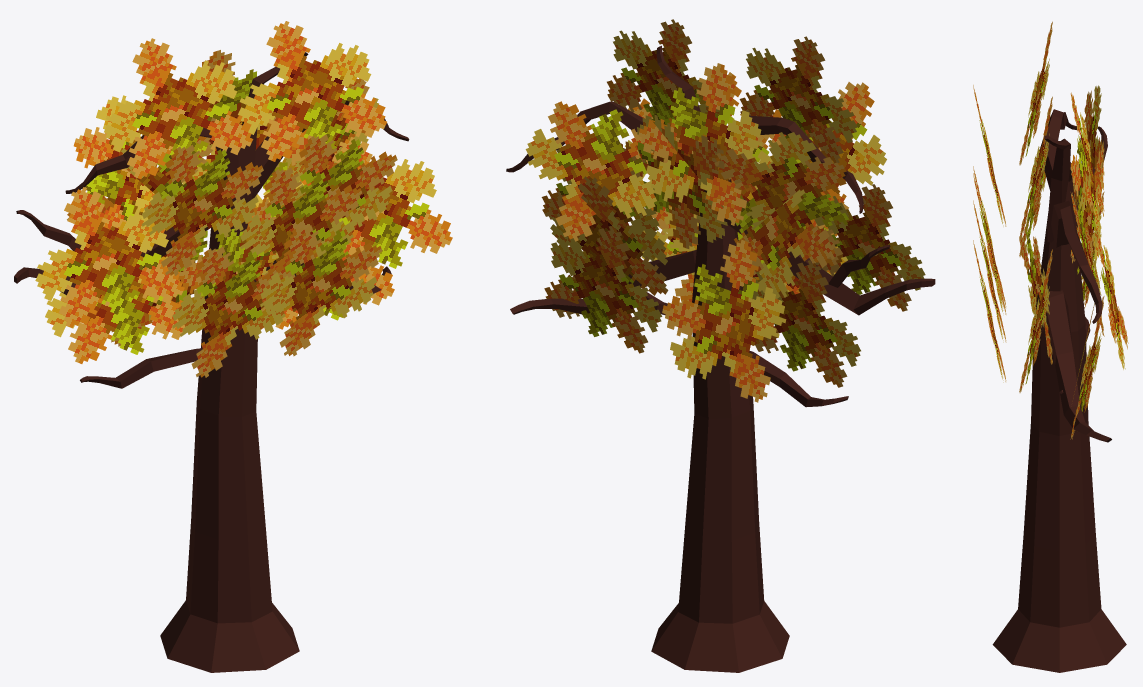
File: m_tree.fbx
3 renders of one model, left to right at view 1: azimuth 30°, elevation 25°; view 2: azimuth 150°, elevation 25°; view 3: azimuth 270°, elevation 25°, orthographic. The views are drawn at different scales.
Parts seen in each view (by area): view 1: Cube.022, Plane.073, Plane.075, Plane.074, Plane.079, Plane.077, Plane.078, Plane.076, Plane.072, Plane.065, Plane.080, Plane.070 (+6 smaller); view 2: Cube.022, Plane.081, Plane.068, Plane.069, Plane.071, Plane.070, Plane.074, Plane.065, Plane.075, Plane.073, Plane.064, Plane.066 (+4 smaller); view 3: Cube.022, Plane.063, Plane.081, Plane.066, Plane.069, Plane.070, Plane.074, Plane.072, Plane.073, Plane.071, Plane.064, Plane.068 (+6 smaller).
Part boxes in pixels (box(x1,y1,x2,y2)): Cube.022: box(14, 52, 409, 672); Plane.073: box(238, 21, 386, 161); Plane.075: box(35, 187, 184, 327); Plane.074: box(104, 38, 253, 179); Plane.079: box(260, 225, 382, 356); Plane.077: box(141, 145, 263, 275); Plane.078: box(172, 246, 291, 377); Plane.076: box(240, 167, 362, 277); Plane.072: box(332, 137, 452, 268); Plane.065: box(45, 256, 185, 363); Plane.080: box(280, 134, 397, 264); Plane.070: box(73, 95, 172, 229); Cube.022: box(506, 45, 935, 672); Plane.081: box(662, 239, 786, 402); Plane.068: box(525, 101, 656, 241); Plane.069: box(638, 63, 762, 225); Plane.071: box(544, 226, 662, 353); Plane.070: box(714, 132, 849, 266); Plane.074: box(739, 36, 857, 163); Plane.065: box(752, 260, 860, 387); Plane.075: box(814, 184, 925, 311); Plane.073: box(607, 19, 719, 125); Plane.064: box(728, 161, 835, 298); Plane.066: box(620, 115, 727, 248); Cube.022: box(992, 109, 1126, 672); Plane.063: box(1019, 231, 1052, 364); Plane.081: box(1097, 236, 1128, 369); Plane.066: box(1070, 145, 1104, 274); Plane.069: box(1070, 92, 1104, 237); Plane.070: box(1073, 85, 1104, 206); Plane.074: box(1019, 21, 1052, 165); Plane.072: box(1019, 249, 1052, 392); Plane.073: box(1019, 96, 1052, 240); Plane.071: box(1070, 296, 1104, 439); Plane.064: box(1070, 134, 1104, 260); Plane.068: box(1070, 192, 1104, 336).
Size of the model in its own units: 605 by 827 by 201.
2 materials, 1 textured.
